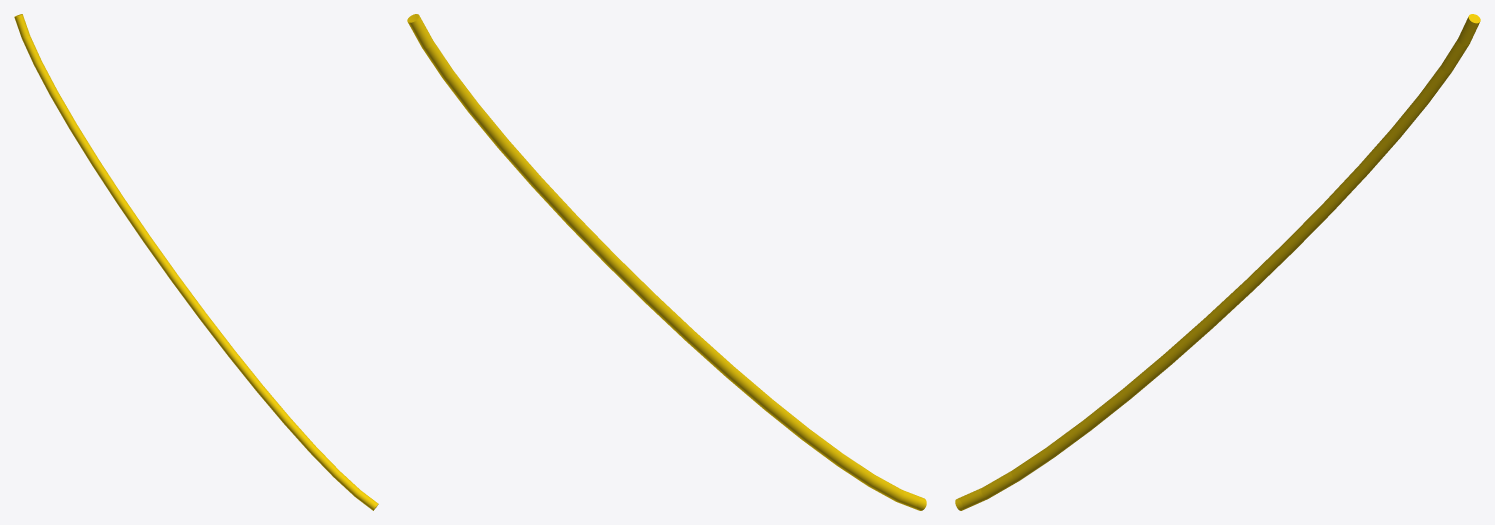
Rendered from Event_420094457_track_8.fbx.
The picture shows the model from 3 angles, left to right: view 1: azimuth 90°, elevation 25°; view 2: azimuth 150°, elevation 25°; view 3: azimuth 270°, elevation 25°; orthographic projection. The views are drawn at different scales.
Parts seen in each view (by area): view 1: Model; view 2: Model; view 3: Model.
Boxes of the visible parts, bbox=[...] form: Model: bbox=[14, 14, 378, 510]; Model: bbox=[407, 14, 926, 510]; Model: bbox=[955, 14, 1480, 510].
Size of the model in its own units: 0.8566 by 2.07 by 1.63.
